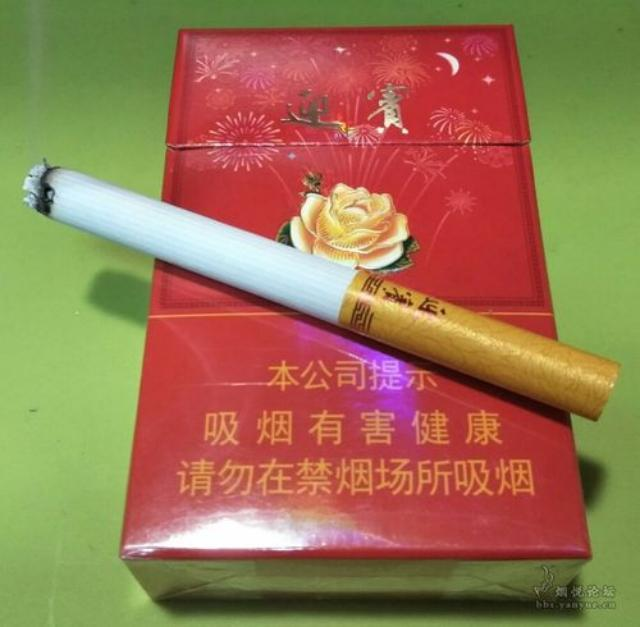Smoking: (22, 156, 624, 422)
